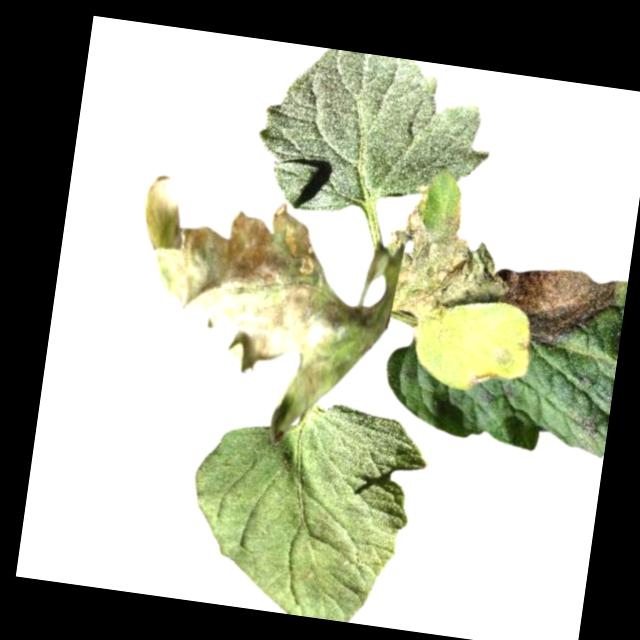Late_blight: (81, 167, 392, 456), (379, 183, 521, 333), (486, 258, 619, 358), (466, 365, 496, 390)
healthy: (177, 387, 434, 630), (249, 41, 502, 234)
